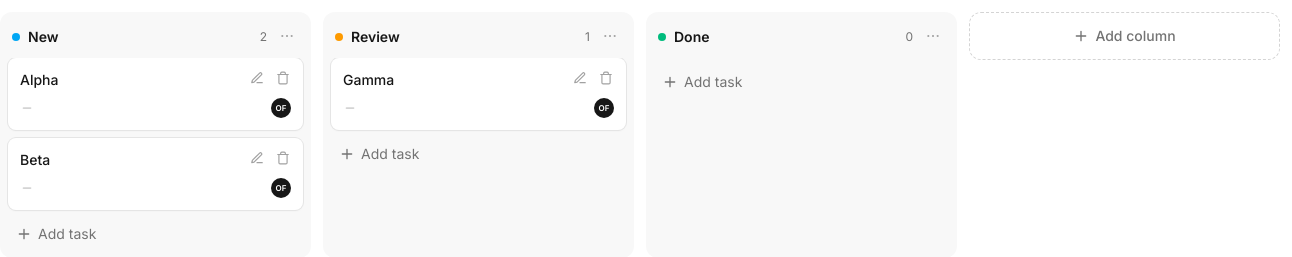
KanbanBoard › renames a column in place, putting the old name back when refused
Click the heading "Review". click: (375, 36)
box: [351,28,400,45]
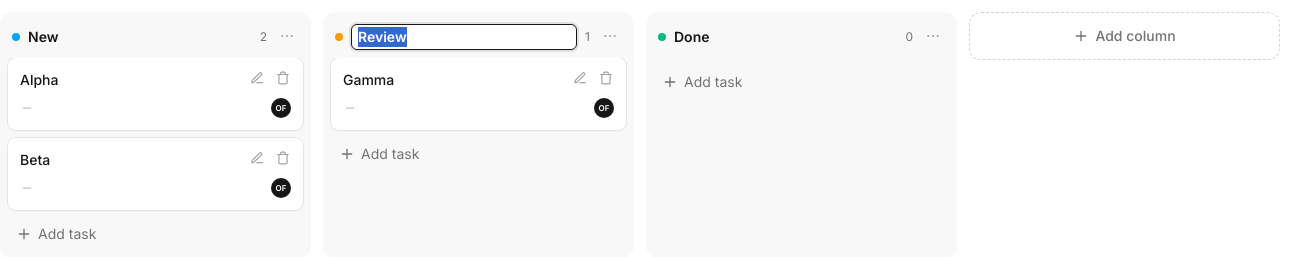
Replace the text in the field named "Rename Review" with "QA". click: (464, 37)
box: [351,24,577,50]
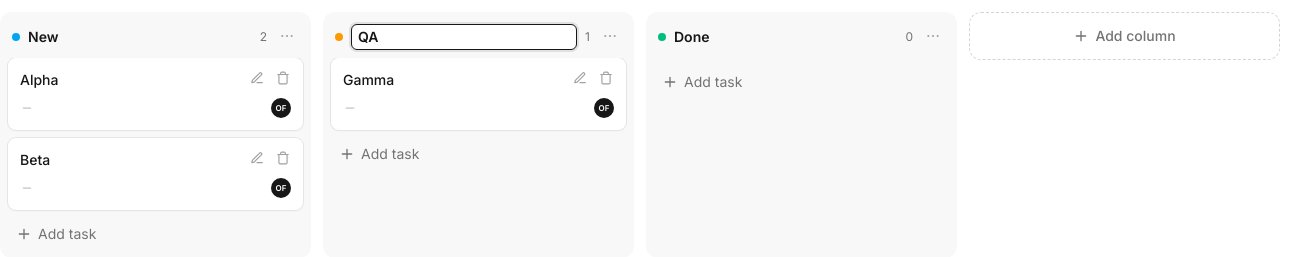
Press Enter in the field named "Rename Review", box [351,24,577,50]
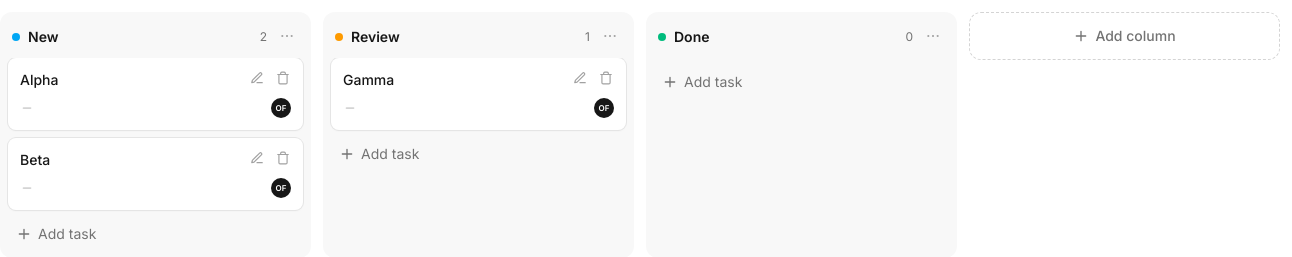
Expected: the heading "Review" is shown, [351,28,400,45]
